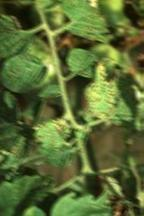Tomato Septoria leaf spot: (30, 112, 86, 172), (84, 59, 123, 121), (0, 50, 54, 91), (0, 115, 42, 166), (60, 0, 112, 40), (64, 43, 106, 77)
